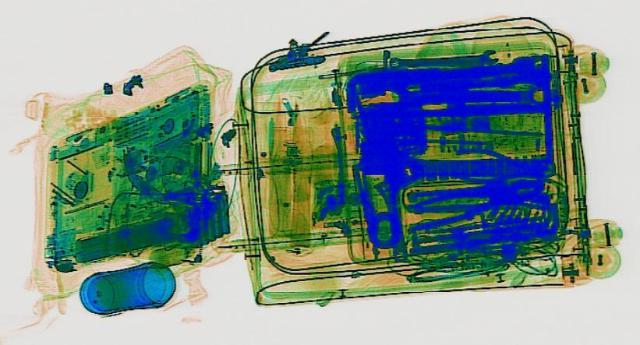Pliers: (390, 171, 558, 230), (443, 144, 553, 185)
